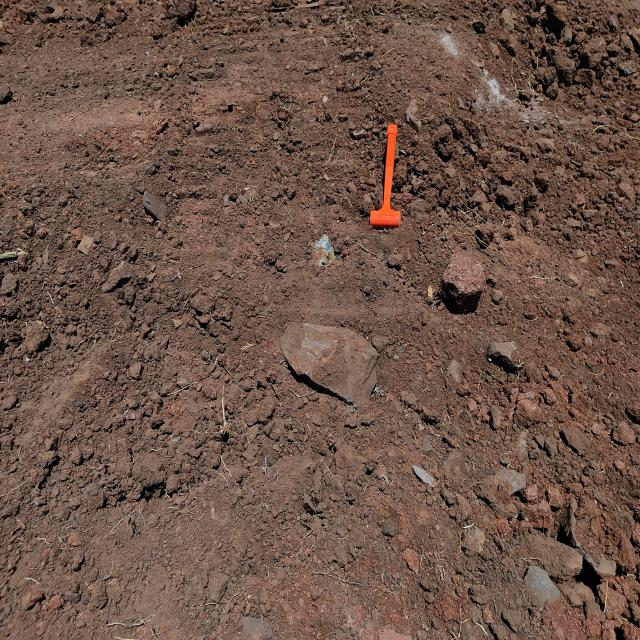Orange_hammer: (369, 123, 401, 228)
